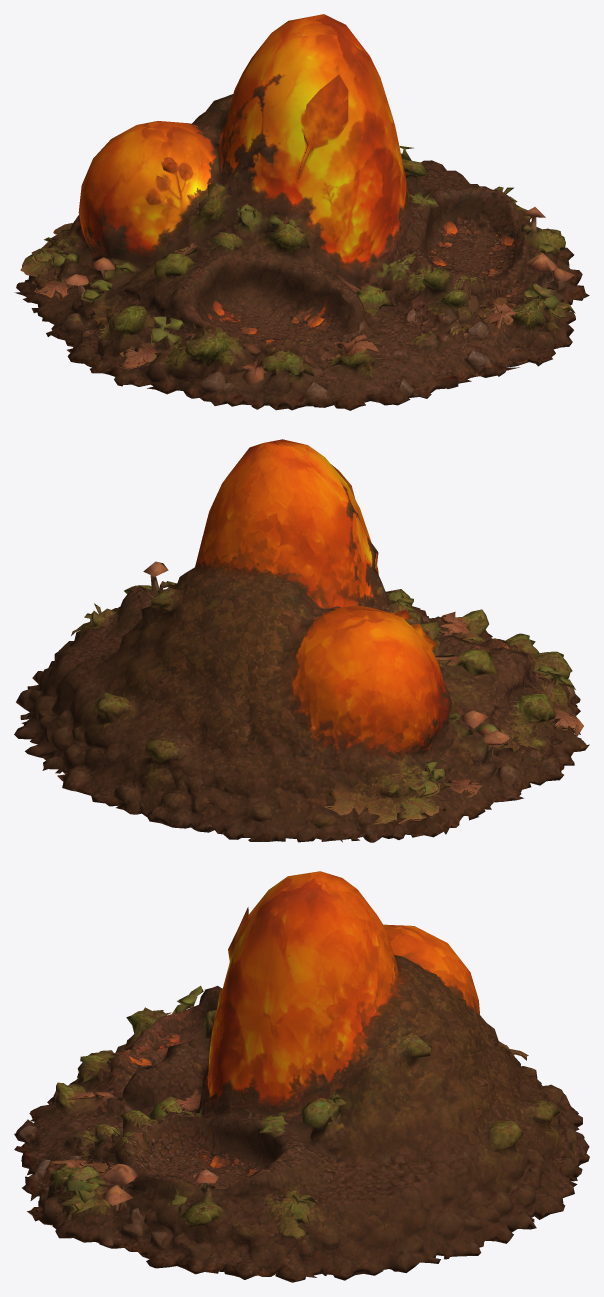
The model's file is source_2.glb.
The picture shows the model from 3 angles, top to bottom: view 1: azimuth 30°, elevation 25°; view 2: azimuth 150°, elevation 25°; view 3: azimuth 270°, elevation 25°; orthographic projection. The views are drawn at different scales.
Visible parts, largest first — view 1: tripo_node_67da8fc6-e834-45fd-a786-47dc2f627cfa; view 2: tripo_node_67da8fc6-e834-45fd-a786-47dc2f627cfa; view 3: tripo_node_67da8fc6-e834-45fd-a786-47dc2f627cfa.
Part boxes in pixels (x1,y1,x2,y2): tripo_node_67da8fc6-e834-45fd-a786-47dc2f627cfa: (14,14,589,410); tripo_node_67da8fc6-e834-45fd-a786-47dc2f627cfa: (14,439,589,842); tripo_node_67da8fc6-e834-45fd-a786-47dc2f627cfa: (14,871,589,1282).
Bounding box in the file's own units: 0.9773 × 0.5246 × 0.939.
1 material, 1 textured.
